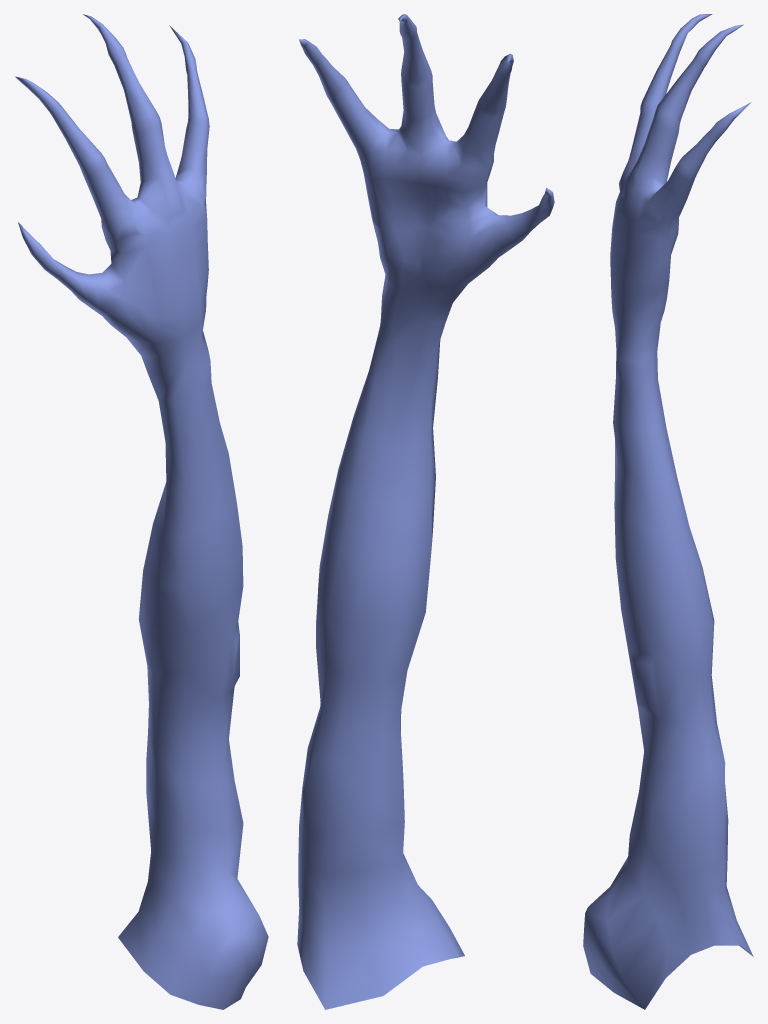
File: bras_low.fbx
The picture shows the model from 3 angles, left to right: view 1: azimuth 30°, elevation 25°; view 2: azimuth 150°, elevation 25°; view 3: azimuth 270°, elevation 25°; orthographic projection. The views are drawn at different scales.
Parts seen in each view (by area): view 1: BSurfaceMesh.002; view 2: BSurfaceMesh.002; view 3: BSurfaceMesh.002.
Part boxes in pixels (x1=…): BSurfaceMesh.002: x1=15, y1=14, x2=268, y2=1009; BSurfaceMesh.002: x1=297, y1=14, x2=554, y2=1009; BSurfaceMesh.002: x1=583, y1=14, x2=753, y2=1009.
Bounding box in the file's own units: 30.94 × 130 × 21.59.
